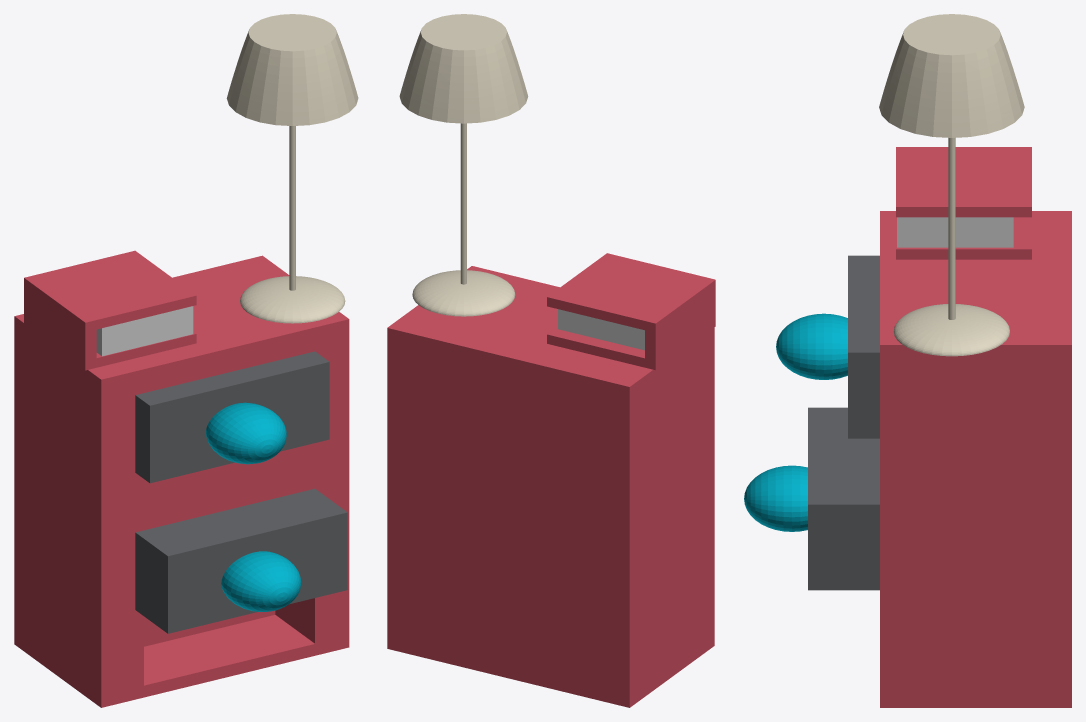
The model's file is Fantastic Blorr-Juttuli.glb.
3 views of the same model, side by side, from view 1: azimuth 30°, elevation 25°; view 2: azimuth 150°, elevation 25°; view 3: azimuth 270°, elevation 25° (orthographic). The views are drawn at different scales.
Visible parts, largest first — view 1: Mesh_Mesh_head_geo.001_lambert2SG.001; view 2: Mesh_Mesh_head_geo.001_lambert2SG.001; view 3: Mesh_Mesh_head_geo.001_lambert2SG.001.
Part boxes in pixels (<box>): Mesh_Mesh_head_geo.001_lambert2SG.001: <box>14,14,358,707</box>; Mesh_Mesh_head_geo.001_lambert2SG.001: <box>387,14,715,707</box>; Mesh_Mesh_head_geo.001_lambert2SG.001: <box>744,14,1071,707</box>.
Size of the model in its own units: 50.75 by 100 by 45.
